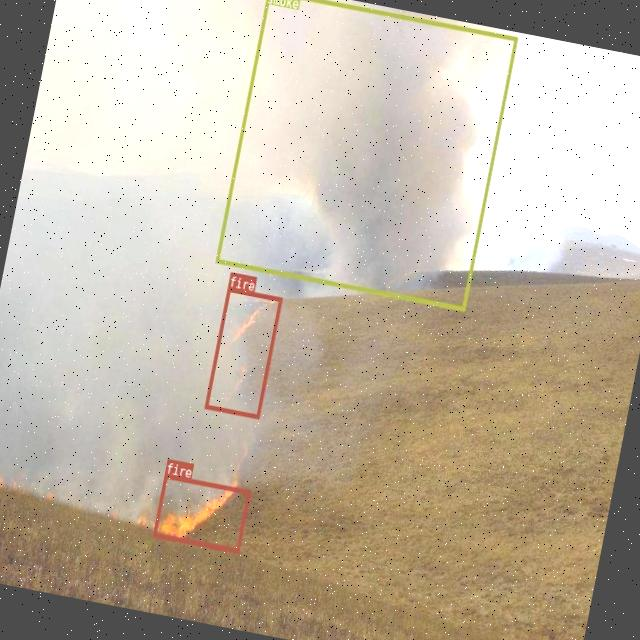fire: (204, 287, 282, 418), (153, 474, 250, 552)
smoke: (215, 0, 518, 310)
